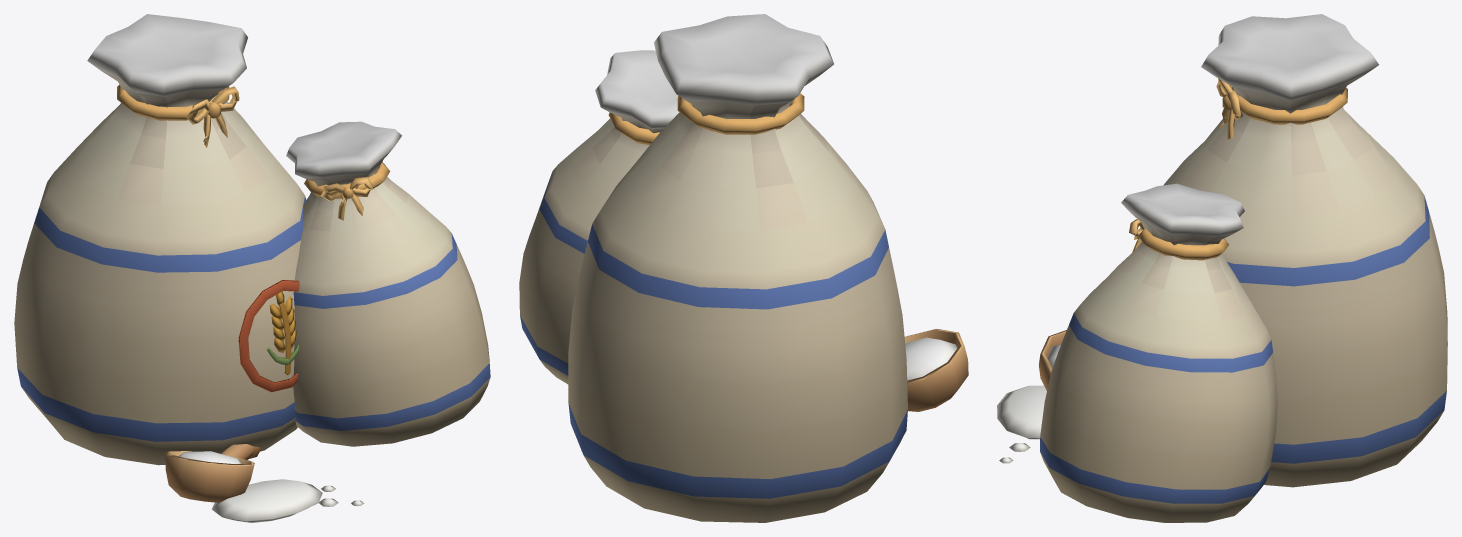
File: furn-flourSacks.glb
3 renders of one model, left to right at view 1: azimuth 30°, elevation 25°; view 2: azimuth 150°, elevation 25°; view 3: azimuth 270°, elevation 25°, orthographic. The views are drawn at different scales.
Visible parts, largest first — view 1: furn; view 2: furn; view 3: furn.
Boxes of the visible parts, x1,y1,x2,y2 form: furn: [14, 14, 490, 522]; furn: [519, 14, 968, 522]; furn: [997, 14, 1447, 522].
Bounding box in the file's own units: 0.497 × 0.474 × 0.4938.
